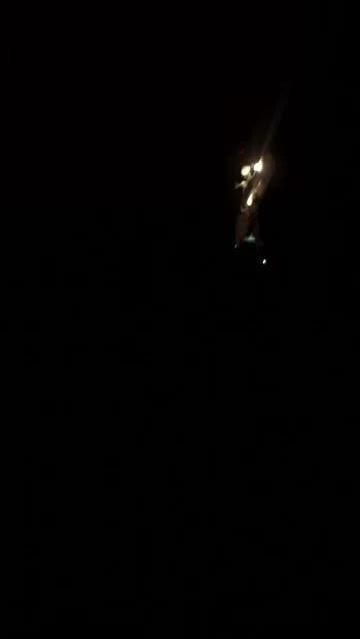Plane: (208, 104, 291, 312)
